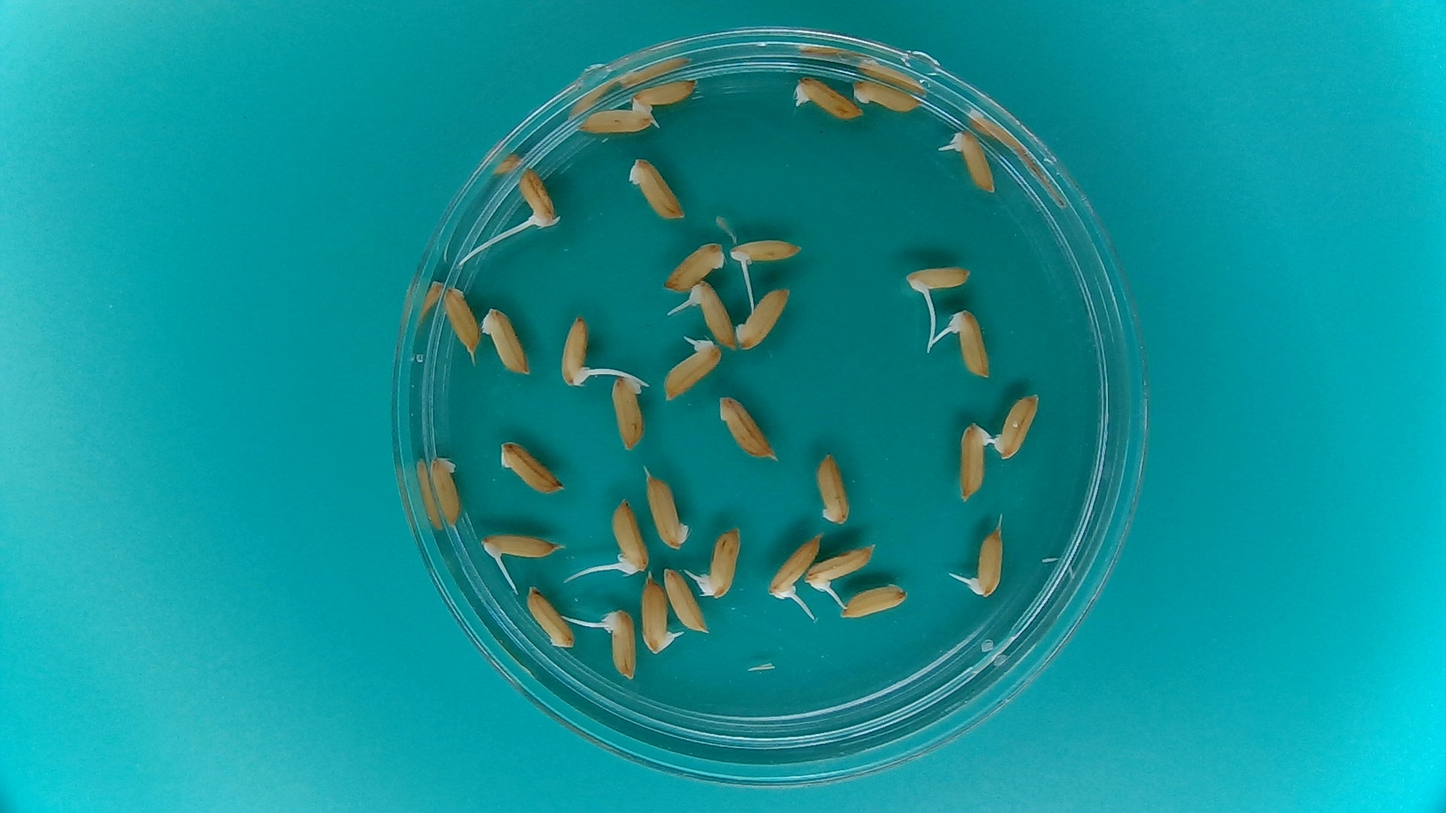no: (643, 468, 692, 551), (496, 437, 566, 495), (627, 155, 688, 221), (717, 394, 777, 461), (734, 288, 795, 353), (480, 303, 532, 377), (990, 389, 1042, 462), (608, 368, 651, 454), (660, 239, 727, 292), (417, 450, 463, 527), (956, 416, 993, 504), (525, 584, 575, 648), (663, 565, 707, 634), (815, 448, 853, 527), (575, 99, 657, 135), (832, 583, 909, 620), (441, 284, 480, 356), (850, 79, 923, 112)
yes: (661, 333, 724, 402), (767, 529, 825, 601), (694, 523, 742, 601), (686, 278, 737, 348), (947, 129, 996, 195), (804, 547, 877, 590), (725, 233, 804, 272), (640, 576, 678, 656), (963, 526, 1005, 598), (795, 74, 864, 117), (609, 504, 648, 578), (950, 308, 990, 380), (517, 169, 560, 232), (601, 606, 637, 680), (480, 532, 559, 564), (559, 317, 593, 390), (629, 77, 697, 112), (903, 264, 973, 293)
